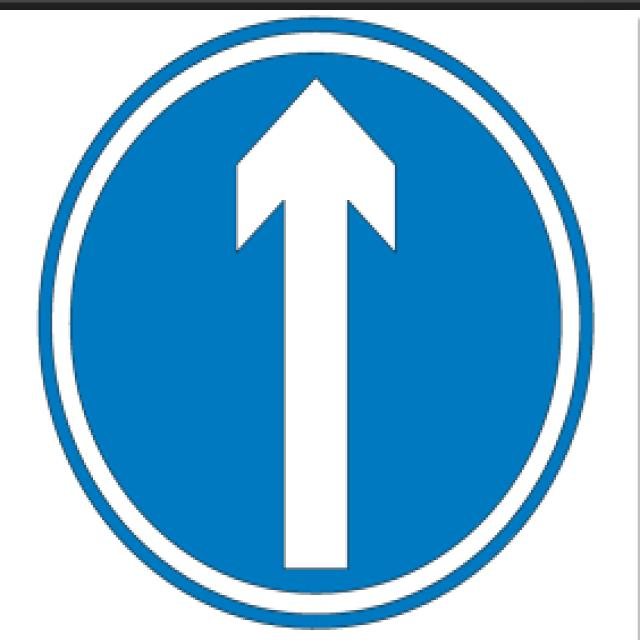Construction: (232, 75, 400, 573)
Straight: (34, 15, 595, 630)
